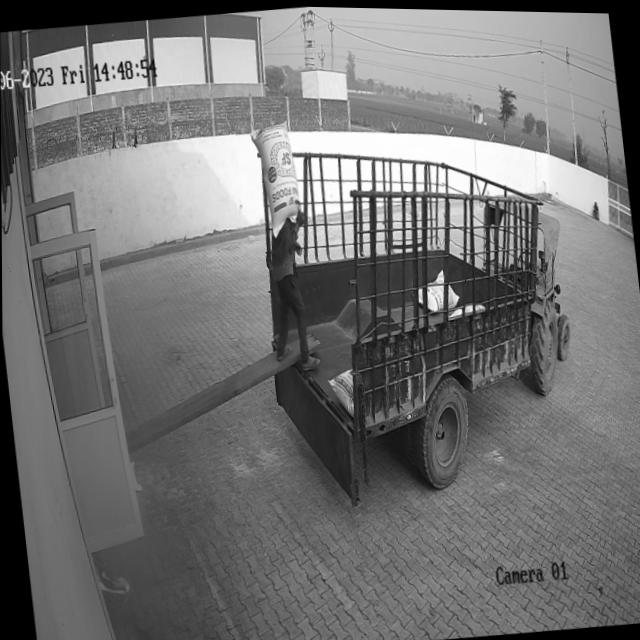sack: (250, 117, 303, 238)
